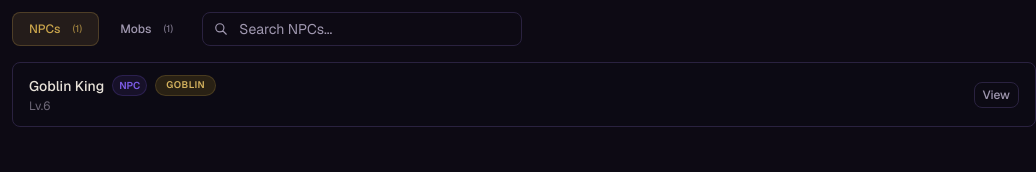
Test: NpcsMobsSection › shows empty state when filtered list is empty
The width and height of the screenshot is (1036, 172).
Check: the text "Goblin King" is shown, box [29, 76, 104, 96]
Note: Type a search that matches nothing
Type "zzzzz" into the field with placeholder "Search NPCs...".
click(362, 29); type("zzzzz")  # box [202, 12, 522, 46]
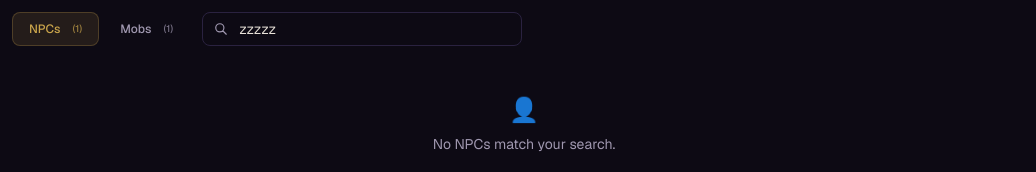
Check: the text "No NPCs match your search." is shown, box [433, 135, 615, 153]
